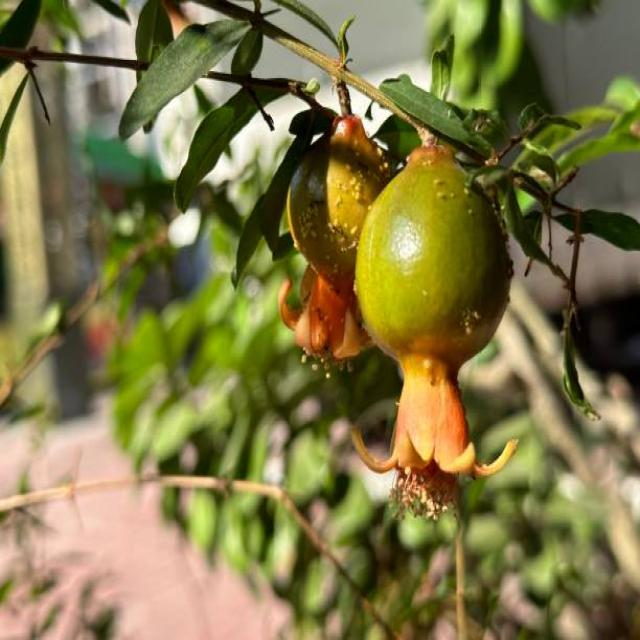Unripe: (353, 136, 521, 558)
